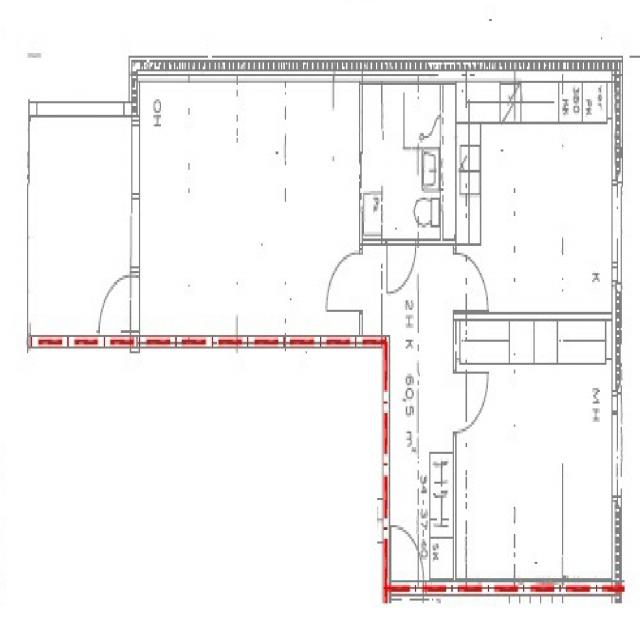door: (391, 521, 423, 595), (98, 275, 140, 330), (453, 370, 490, 429), (327, 252, 362, 309), (454, 252, 488, 309), (387, 238, 416, 295)
